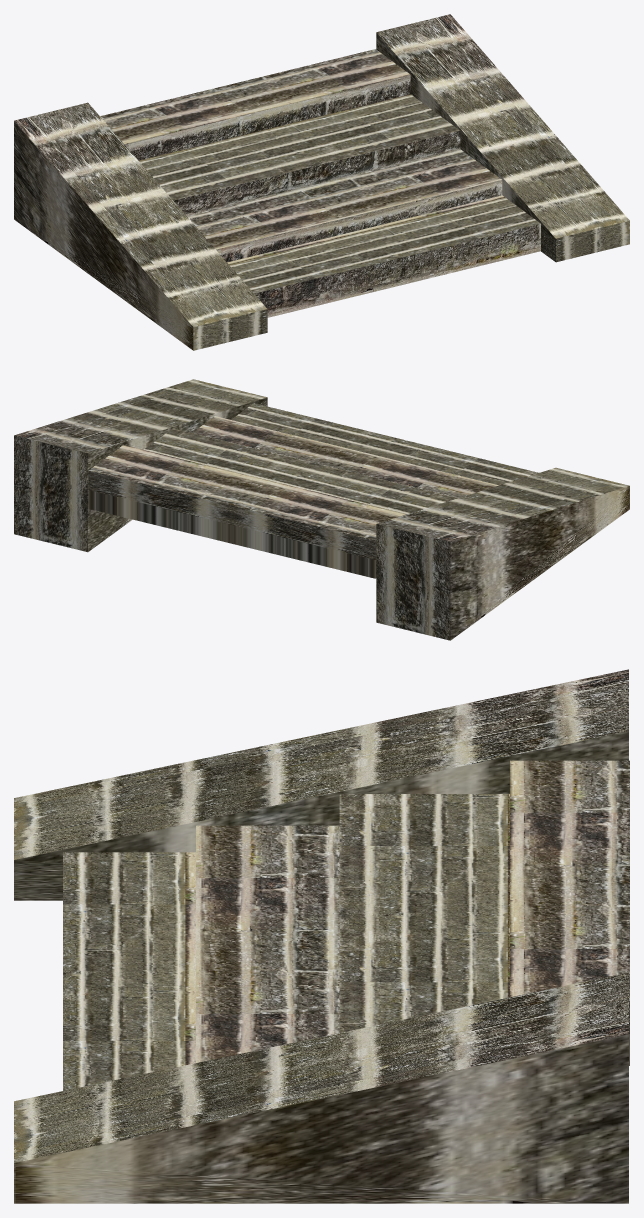
Rendered from escaleras1templos.fbx.
The picture shows the model from 3 angles, top to bottom: view 1: azimuth 30°, elevation 25°; view 2: azimuth 150°, elevation 25°; view 3: azimuth 270°, elevation 25°; orthographic projection. The views are drawn at different scales.
Parts seen in each view (by area): view 1: Cube.001; view 2: Cube.001; view 3: Cube.001.
Boxes of the visible parts, <box> form: Cube.001: <box>14,14,629,350</box>; Cube.001: <box>14,379,629,640</box>; Cube.001: <box>14,669,629,1203</box>.
Size of the model in its own units: 121 by 26.16 by 86.25.
1 material, 1 textured.
